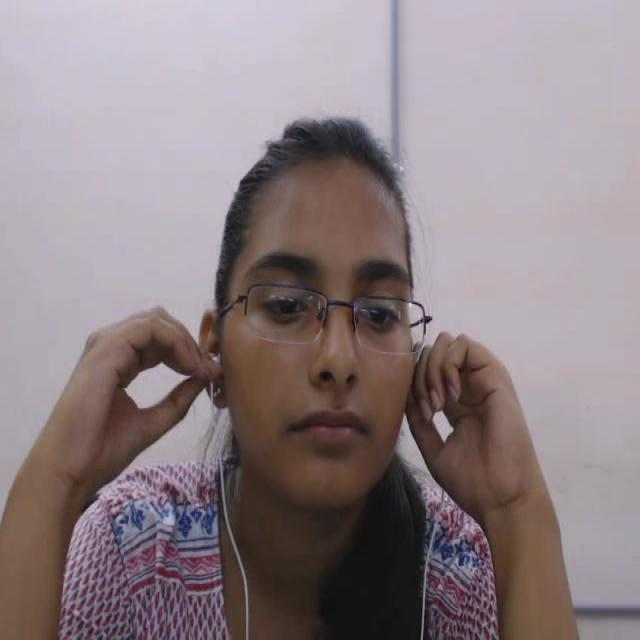Bored: (191, 90, 452, 528)
